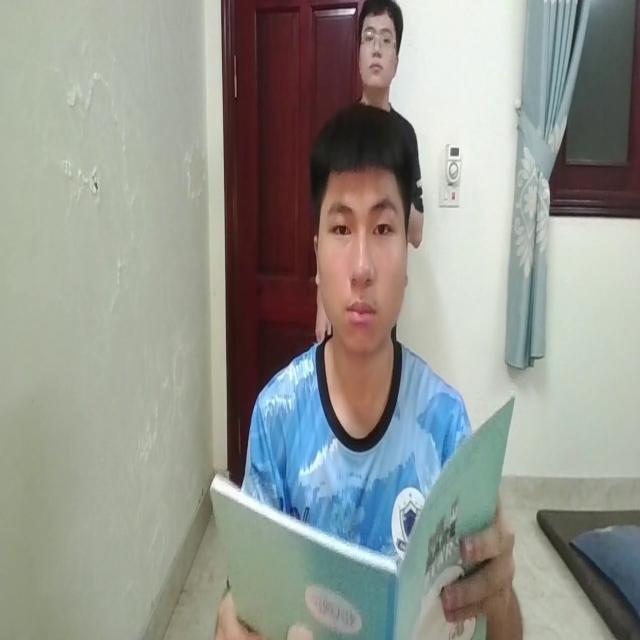book: (205, 401, 518, 628)
extra_person: (354, 10, 406, 120)
student: (243, 106, 467, 479)
